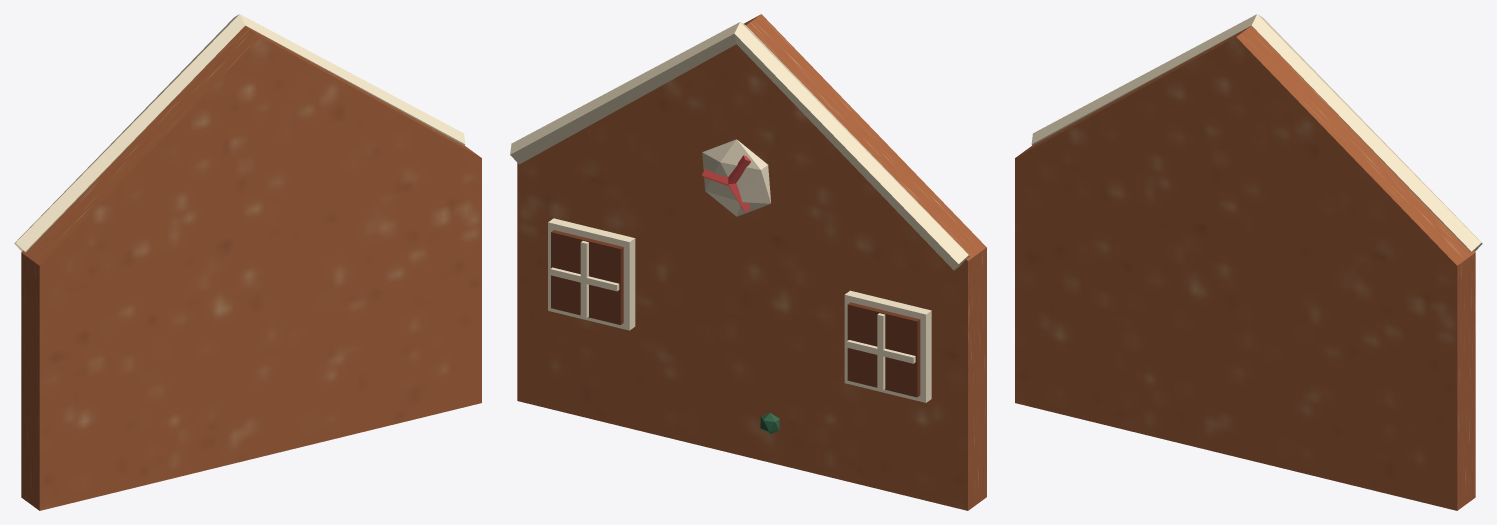
Rendered from gingerbread_house_piece_back.glb.
The picture shows the model from 3 angles, left to right: view 1: azimuth 30°, elevation 25°; view 2: azimuth 150°, elevation 25°; view 3: azimuth 330°, elevation 25°; orthographic projection.
Parts seen in each view (by area): view 1: back; view 2: back; view 3: back.
Part boxes in pixels (x1,y1,x2,y2): back: (14, 14, 481, 510); back: (510, 14, 986, 510); back: (1015, 14, 1482, 510).
Bounding box in the file's own units: 0.3084 × 0.281 × 0.039.
Materials: 6 (1 with a texture image).
